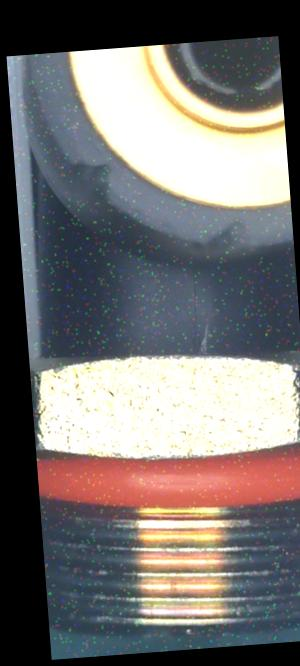bump: (68, 147, 119, 207), (196, 212, 246, 262)
joint line: (185, 261, 206, 313)
white mark: (193, 316, 220, 361)
